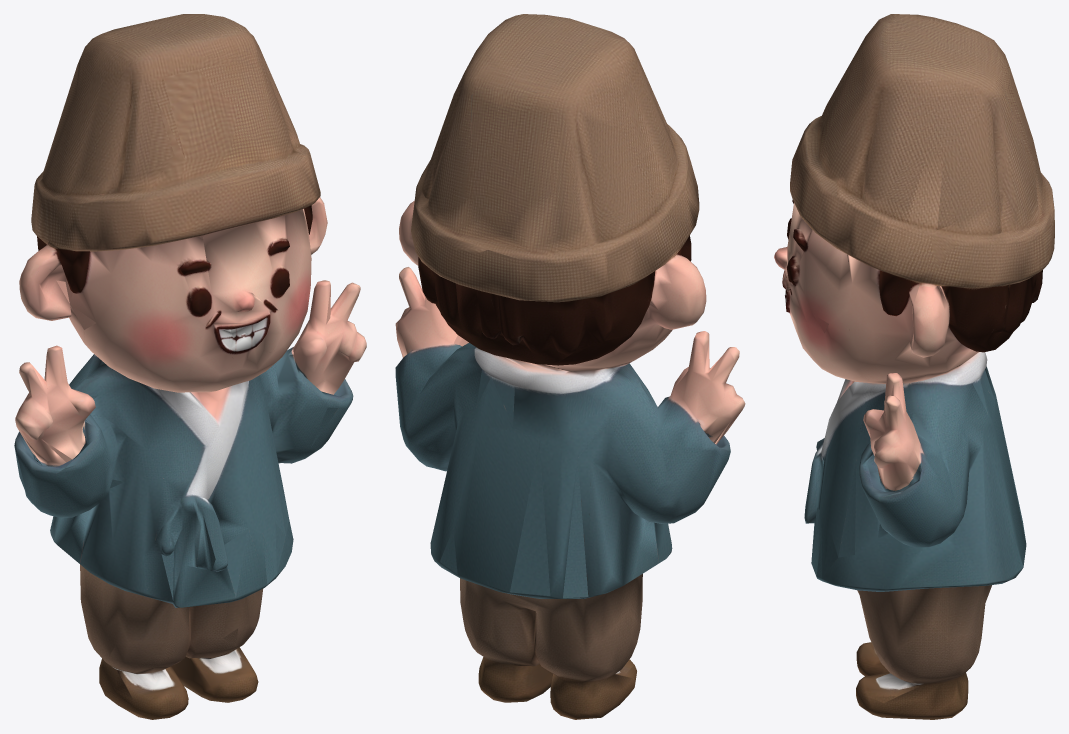
The model's file is uhd-v-lowpoly.glb.
The picture shows the model from 3 angles, left to right: view 1: azimuth 30°, elevation 25°; view 2: azimuth 150°, elevation 25°; view 3: azimuth 270°, elevation 25°; orthographic projection.
Parts seen in each view (by area): view 1: Mesh_0; view 2: Mesh_0; view 3: Mesh_0.
Part boxes in pixels (box(x1,y1,x2,y2)): Mesh_0: box(14, 14, 366, 719); Mesh_0: box(395, 14, 745, 719); Mesh_0: box(774, 14, 1054, 719).
Size of the model in its own units: 0.9219 by 1.7 by 0.6594.
1 material, 1 textured.
